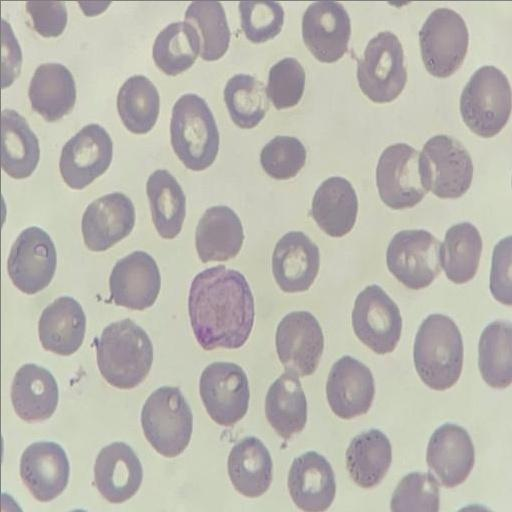Infected: (188, 265, 254, 349)
Uninfected: (94, 319, 154, 387), (140, 386, 193, 456), (413, 313, 462, 388), (169, 93, 218, 168), (356, 33, 408, 103), (460, 66, 512, 135), (417, 9, 469, 76), (59, 124, 112, 188), (351, 286, 401, 353), (419, 134, 472, 197), (375, 144, 428, 207), (6, 227, 56, 293), (386, 230, 441, 288), (198, 362, 249, 424), (19, 440, 69, 502), (274, 311, 323, 374), (80, 192, 133, 250), (107, 251, 159, 310), (325, 356, 373, 418), (93, 443, 142, 503), (301, 2, 351, 60), (426, 423, 472, 486), (0, 110, 41, 180), (310, 177, 358, 236), (287, 451, 335, 510), (264, 373, 307, 438), (38, 296, 85, 355), (184, 1, 231, 60), (271, 231, 318, 290), (226, 437, 272, 497), (146, 170, 187, 237), (194, 205, 242, 262), (345, 428, 391, 487), (28, 63, 76, 119), (11, 363, 58, 420), (116, 74, 160, 132), (440, 223, 481, 284), (152, 22, 199, 75), (477, 321, 512, 388), (223, 74, 268, 126), (260, 135, 305, 180), (266, 58, 305, 108), (391, 473, 439, 511), (239, 2, 283, 42)
